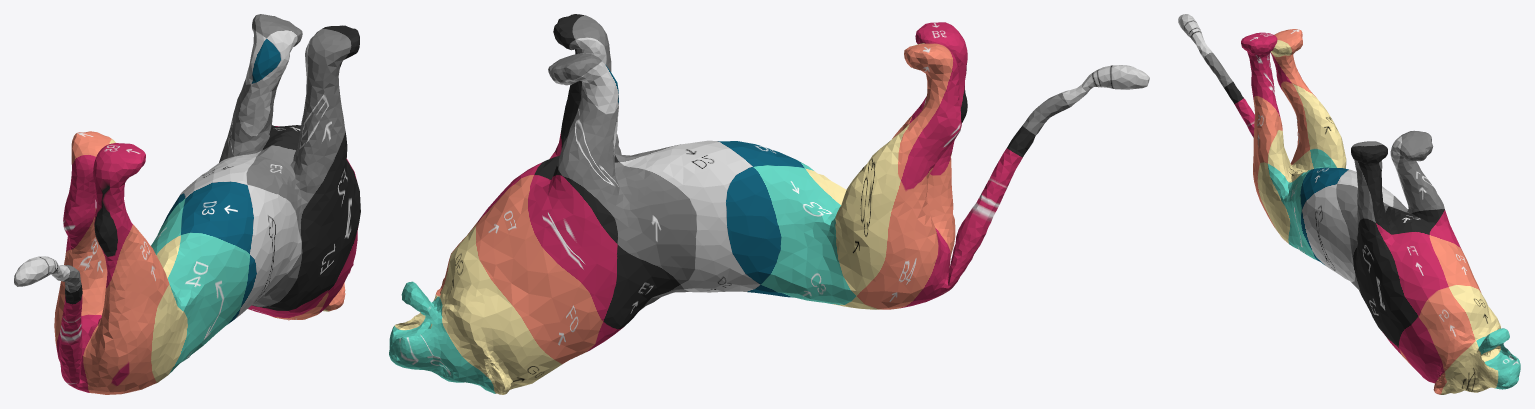
File: fox_01-lion_02.obj
3 renders of one model, left to right at view 1: azimuth 30°, elevation 25°; view 2: azimuth 150°, elevation 25°; view 3: azimuth 270°, elevation 25°, orthographic. The views are drawn at different scales.
Visible parts, largest first — view 1: fox_01-lion_02_export; view 2: fox_01-lion_02_export; view 3: fox_01-lion_02_export.
Part boxes in pixels (box(x1,y1,x2,y2)): fox_01-lion_02_export: box(14, 14, 360, 394); fox_01-lion_02_export: box(389, 14, 1149, 394); fox_01-lion_02_export: box(1178, 14, 1520, 394).
Size of the model in its own units: 1.04 by 0.6121 by 0.7757.
